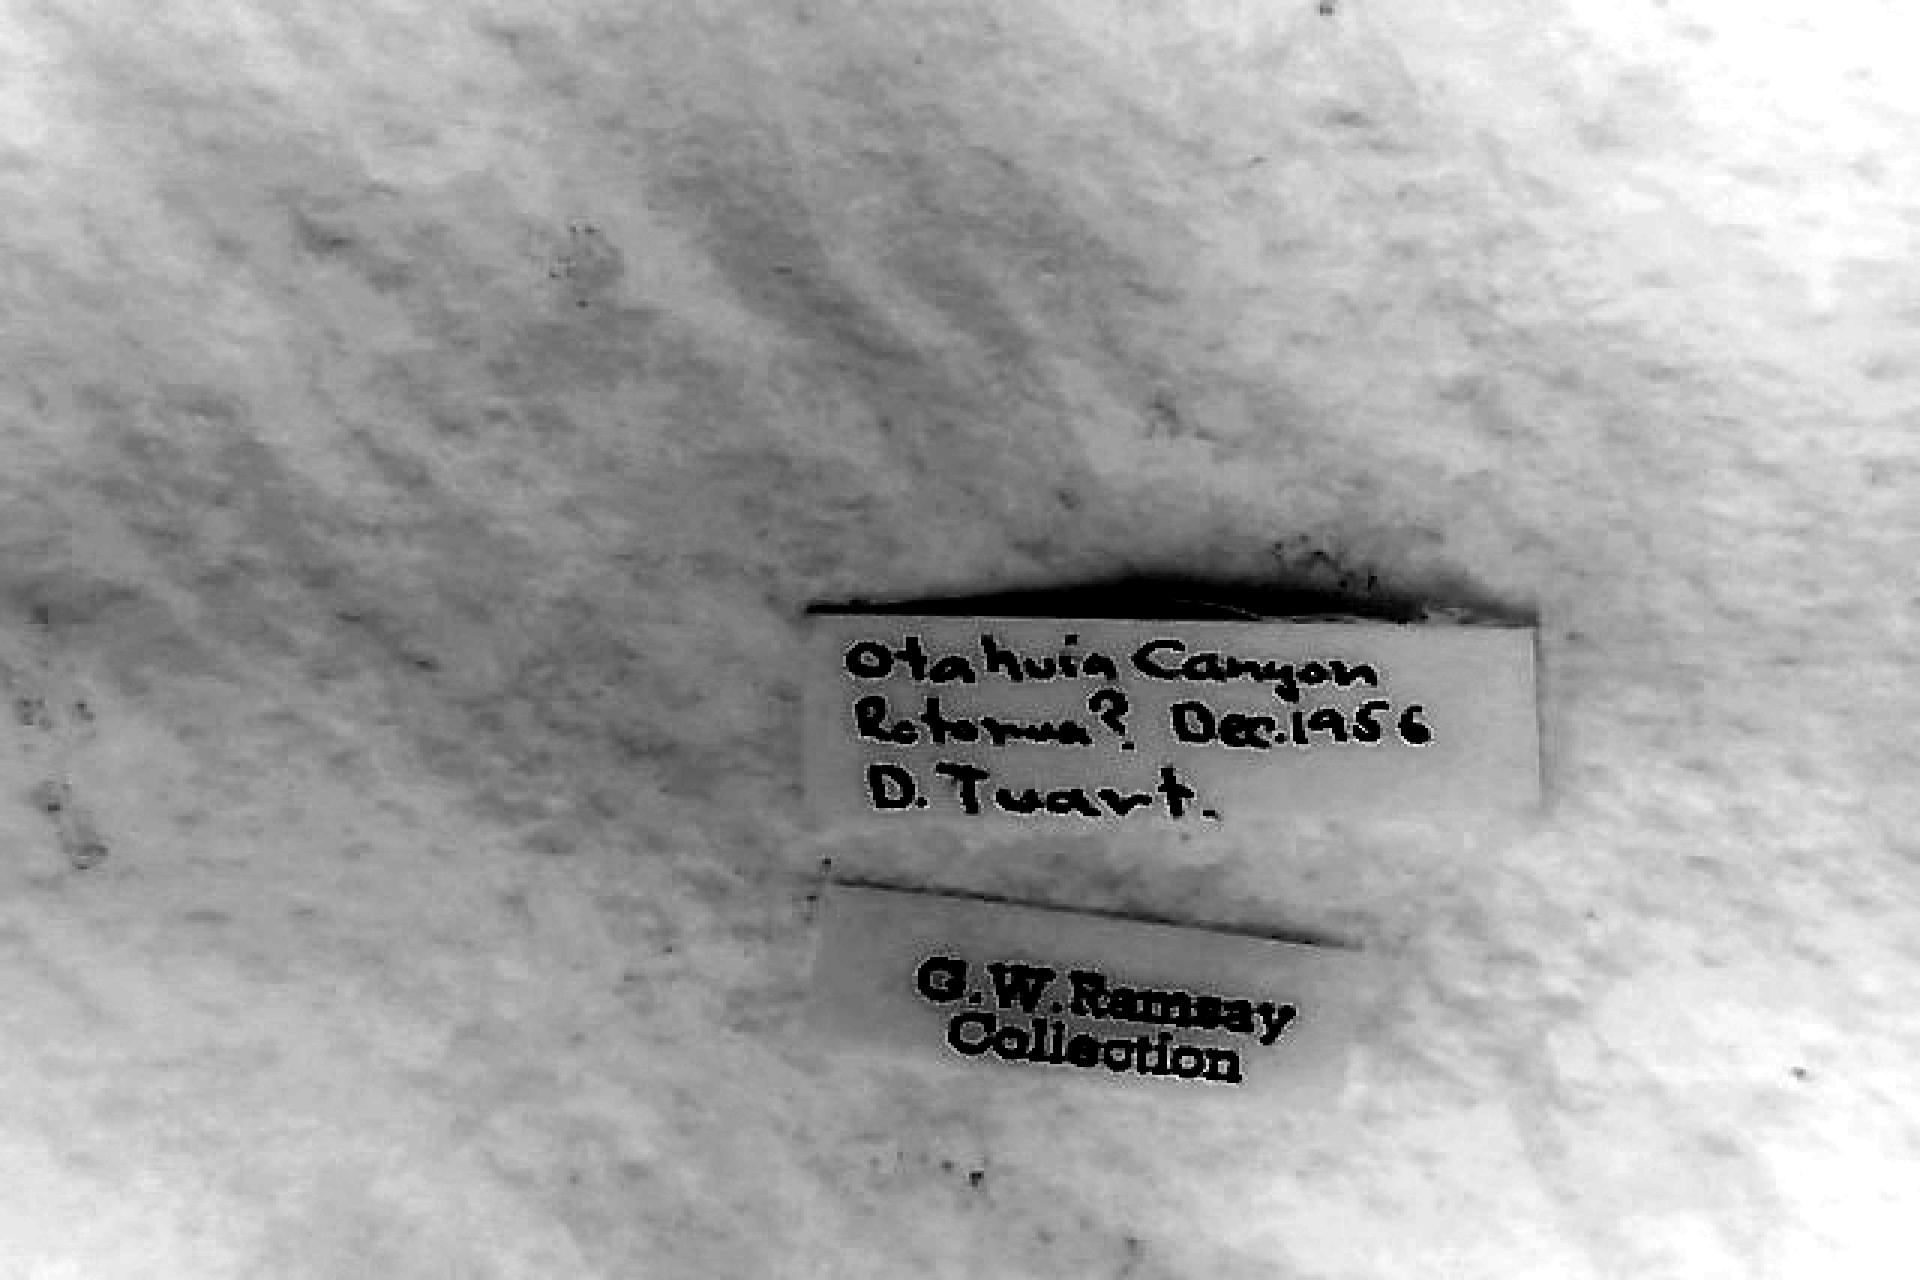hand_label: (806, 610, 1541, 835)
typed_label: (818, 887, 1352, 1112)
